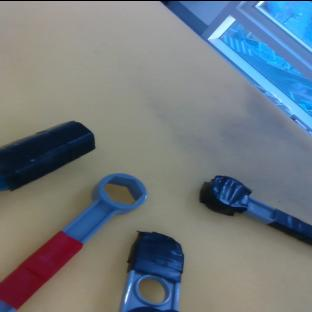part_1_bad: (119, 229, 186, 312)
part_2_bad: (0, 105, 99, 194)
part_3_good: (0, 160, 152, 312)
